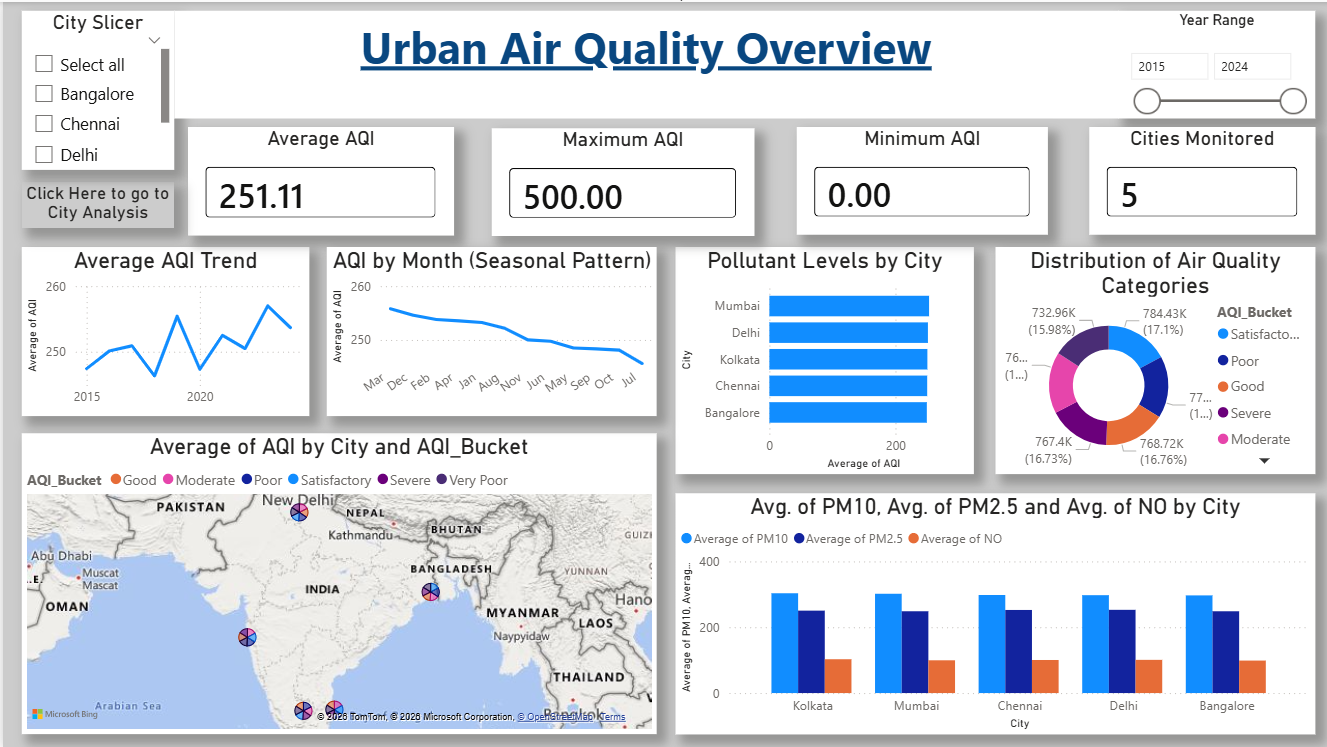

Layout of this report page (visuals, bound fields, positions):
{"tool":"powerbi","page":{"name":"Pollution Analysis Dashboard","canvas":[1280,720],"ordinal":21},"visuals":[{"type":"lineChart","title":"Average AQI Trend","fields":{"Category":["city_day.Datetime.Variation.Date Hierarchy.Year","city_day.Datetime.Variation.Date Hierarchy.Quarter","city_day.Datetime.Variation.Date Hierarchy.Month","city_day.Datetime.Variation.Date Hierarchy.Day"],"Y":["Avg(city_day.AQI)"]},"box":[18.1,236.5,277.5,162.9],"z":0},{"type":"slicer","title":"City Slicer","fields":{"Values":["city_day.City"]},"box":[18.1,8.4,147.2,153.2],"z":1000},{"type":"slicer","title":"Year Range","fields":{"Values":["city_day.Year"]},"box":[1076.1,8.4,190.6,103.8],"z":2000},{"type":"clusteredBarChart","title":"Pollutant Levels by City","fields":{"Category":["city_day.City"],"Y":["Avg(city_day.AQI)"]},"box":[649.1,236.5,288.3,219.6],"z":3000},{"type":"cardVisual","title":"Maximum AQI","fields":{"Data":["Max(city_day.AQI)"]},"box":[471.7,121.9,253.4,103.8],"z":4000},{"type":"cardVisual","title":"Average AQI","fields":{"Data":["Avg(city_day.AQI)"]},"box":[178.6,120.6,257,105],"z":5000},{"type":"cardVisual","title":"Minimum AQI","fields":{"Data":["Min(city_day.AQI)"]},"box":[766.1,120.6,242.5,103.8],"z":6000},{"type":"cardVisual","title":"Cities Monitored","fields":{"Data":["Count(city_day.City)"]},"box":[1048.4,120.6,218.4,103.8],"z":7000},{"type":"map","fields":{"Category":["city_day.City"],"Size":["Avg(city_day.AQI)"],"Series":["city_day.AQI_Bucket"]},"box":[18.1,416.2,612.9,290.8],"z":8000},{"type":"clusteredColumnChart","title":"Avg. of PM10, Avg. of PM2.5 and Avg. of NO by City","fields":{"Category":["city_day.City"],"Y":["Avg(city_day.PM10)","Avg(city_day.PM2.5)","Avg(city_day.NO)"]},"box":[649.1,474.1,617.7,232.8],"z":9000},{"type":"lineChart","title":"AQI by Month (Seasonal Pattern)","fields":{"Category":["city_day.Month Name"],"Y":["Avg(city_day.AQI)"]},"box":[312.5,236.5,318.5,162.9],"z":10000},{"type":"textbox","box":[165.3,8.4,910.9,103.8],"z":11000},{"type":"donutChart","title":"Distribution of Air Quality Categories","fields":{"Category":["city_day.AQI_Bucket"],"Y":["Sum(city_day.AQI)"]},"box":[957.9,236.5,308.8,219.6],"z":12000},{"type":"actionButton","title":"Click Here to go to City  Analysis","box":[18.1,173.7,147.2,44.6],"z":12001}]}

Visuals, with their boxes in screenshot pixels (x1, y1, x2, y2), scaled from the page's 1280x720 canvas onto the 1327x747 screenshot:
"Average AQI Trend" lineChart: bbox=[19, 245, 306, 414]
"City Slicer" slicer: bbox=[19, 9, 171, 168]
"Year Range" slicer: bbox=[1116, 9, 1313, 116]
"Pollutant Levels by City" clusteredBarChart: bbox=[673, 245, 972, 473]
"Maximum AQI" cardVisual: bbox=[489, 126, 752, 234]
"Average AQI" cardVisual: bbox=[185, 125, 452, 234]
"Minimum AQI" cardVisual: bbox=[794, 125, 1046, 233]
"Cities Monitored" cardVisual: bbox=[1087, 125, 1313, 233]
map - city_day.City x Avg(city_day.AQI): bbox=[19, 432, 654, 734]
"Avg. of PM10, Avg. of PM2.5 and Avg. of NO by City" clusteredColumnChart: bbox=[673, 492, 1313, 733]
"AQI by Month (Seasonal Pattern)" lineChart: bbox=[324, 245, 654, 414]
textbox: bbox=[171, 9, 1116, 116]
"Distribution of Air Quality Categories" donutChart: bbox=[993, 245, 1313, 473]
"Click Here to go to City  Analysis" actionButton: bbox=[19, 180, 171, 226]
